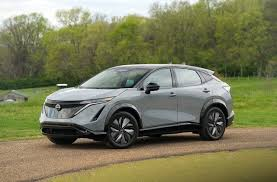car: (35, 62, 235, 149)
